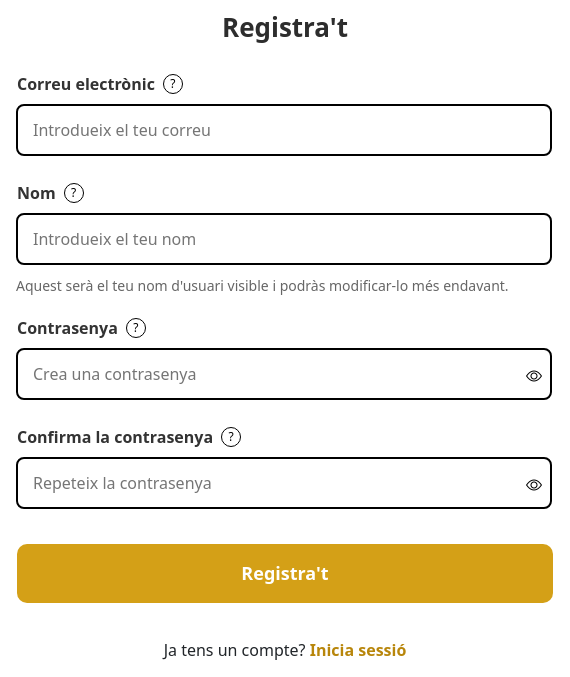
Registre component › shows password tooltip message when is clicked
The width and height of the screenshot is (570, 677).
Click the 3rd button with class "tooltip-btn".
click(136, 328)  # box [126,318,146,338]
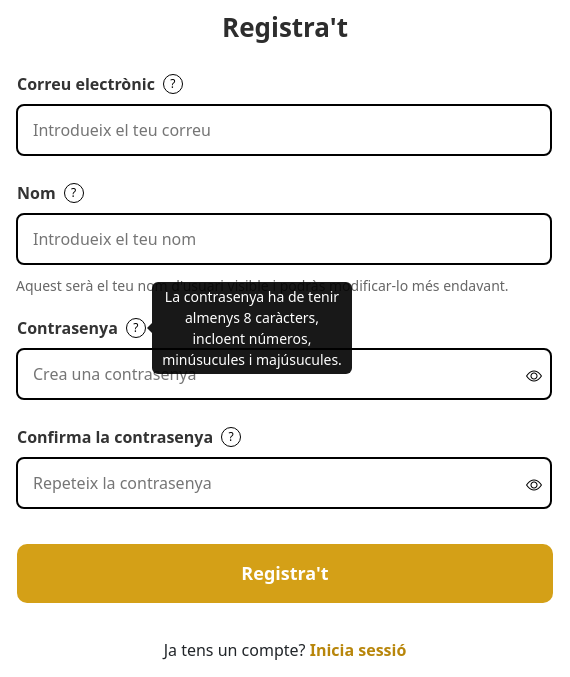
Expected: the tooltip with class "tooltip" is shown, [152,282,352,374]
Expected: the text "La contrasenya ha de tenir almenys 8 caràcters, incloent números, minúsucules i majúsucules." is shown, [162,287,342,369]
